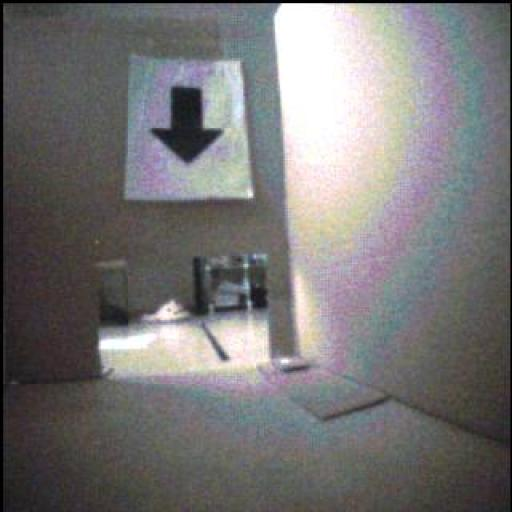arrow: (153, 88, 223, 165)
